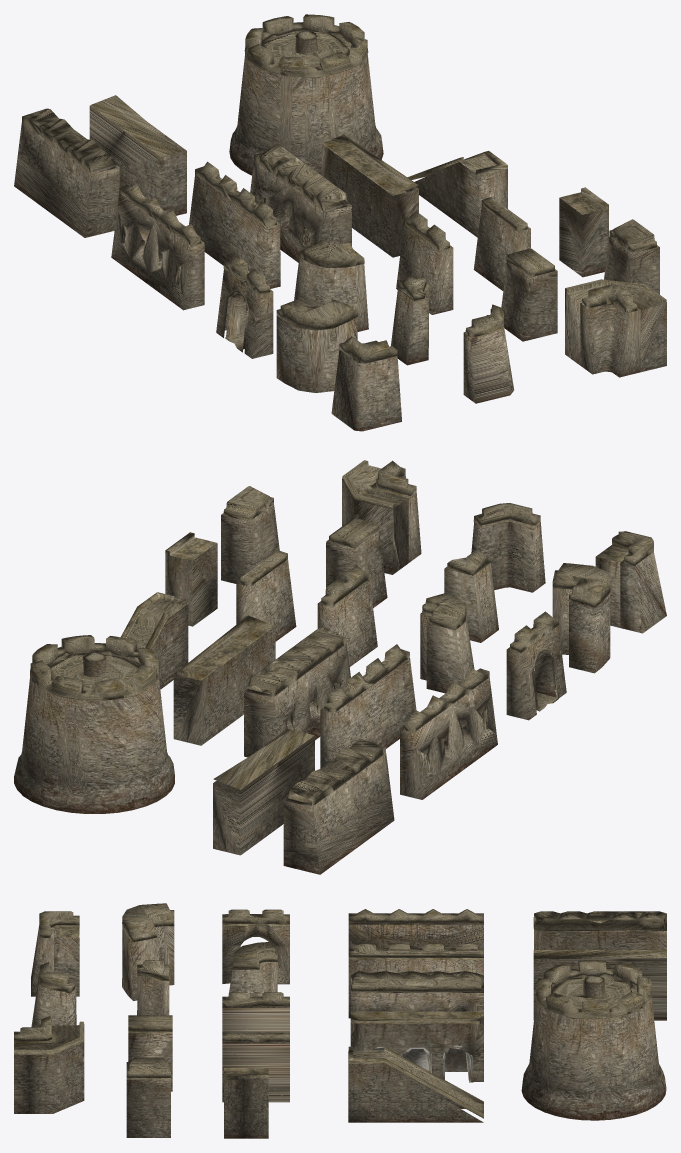
File: modular_fort_01_lod2.glb
3 renders of one model, top to bottom at view 1: azimuth 30°, elevation 25°; view 2: azimuth 150°, elevation 25°; view 3: azimuth 270°, elevation 25°, orthographic. The views are drawn at different scales.
Parts seen in each view (by area): view 1: modular_fort_01_tower_round, modular_fort_01_wall_thick_straight_01, modular_fort_01_wall_thin_straight_02, modular_fort_01_wall_thick_straight_02, modular_fort_01_wall_thin_straight_01, modular_fort_01_wall_walkway_straight_02, modular_fort_01_wall_walkway_straight_01, modular_fort_01_wall_thick_corner_02, modular_fort_01_wall_thin_corner_02, modular_fort_01_wall_thin_corner_01, modular_fort_01_wall_stairs_straight_01, modular_fort_01_wall_thin_gate_01 (+9 smaller); view 2: modular_fort_01_tower_round, modular_fort_01_wall_thick_straight_01, modular_fort_01_wall_thin_straight_02, modular_fort_01_wall_thick_straight_02, modular_fort_01_wall_walkway_straight_01, modular_fort_01_wall_walkway_straight_02, modular_fort_01_wall_thin_straight_01, modular_fort_01_wall_thick_corner_02, modular_fort_01_wall_thin_corner_03, modular_fort_01_wall_thin_gate_01, modular_fort_01_wall_thick_corner_01, modular_fort_01_wall_thick_end_02 (+10 smaller); view 3: modular_fort_01_tower_round, modular_fort_01_wall_stairs_straight_01, modular_fort_01_wall_walkway_straight_01, modular_fort_01_wall_walkway_corner_01, modular_fort_01_wall_thick_straight_02, modular_fort_01_wall_thick_straight_01, modular_fort_01_wall_thin_straight_02, modular_fort_01_wall_thin_straight_01, modular_fort_01_wall_thick_corner_02, modular_fort_01_wall_thick_end_02, modular_fort_01_wall_walkway_straight_02, modular_fort_01_wall_thin_straight_03 (+10 smaller).
Boxes of the visible parts, left/top/right/bottom form: modular_fort_01_tower_round: left=229, top=14, right=383, bottom=175; modular_fort_01_wall_thick_straight_01: left=14, top=108, right=119, bottom=237; modular_fort_01_wall_thin_straight_02: left=111, top=184, right=204, bottom=310; modular_fort_01_wall_thick_straight_02: left=250, top=143, right=351, bottom=262; modular_fort_01_wall_thin_straight_01: left=189, top=161, right=280, bottom=288; modular_fort_01_wall_walkway_straight_02: left=89, top=95, right=186, bottom=215; modular_fort_01_wall_walkway_straight_01: left=322, top=134, right=418, bottom=257; modular_fort_01_wall_thick_corner_02: left=276, top=298, right=357, bottom=392; modular_fort_01_wall_thin_corner_02: left=331, top=336, right=401, bottom=431; modular_fort_01_wall_thin_corner_01: left=580, top=284, right=640, bottom=377; modular_fort_01_wall_stairs_straight_01: left=407, top=151, right=507, bottom=237; modular_fort_01_wall_thin_gate_01: left=216, top=255, right=273, bottom=358; modular_fort_01_tower_round: left=14, top=635, right=174, bottom=813; modular_fort_01_wall_thick_straight_01: left=283, top=738, right=394, bottom=874; modular_fort_01_wall_thin_straight_02: left=400, top=668, right=497, bottom=799; modular_fort_01_wall_thick_straight_02: left=244, top=626, right=350, bottom=757; modular_fort_01_wall_walkway_straight_01: left=173, top=615, right=275, bottom=745; modular_fort_01_wall_walkway_straight_02: left=213, top=728, right=314, bottom=855; modular_fort_01_wall_thin_straight_01: left=320, top=644, right=416, bottom=768; modular_fort_01_wall_thick_corner_02: left=552, top=563, right=610, bottom=673; modular_fort_01_wall_thin_corner_03: left=471, top=503, right=545, bottom=592; modular_fort_01_wall_thin_gate_01: left=506, top=611, right=566, bottom=720; modular_fort_01_wall_thick_corner_01: left=420, top=593, right=474, bottom=693; modular_fort_01_wall_thick_end_02: left=221, top=486, right=279, bottom=583; modular_fort_01_tower_round: left=521, top=960, right=666, bottom=1120; modular_fort_01_wall_stairs_straight_01: left=348, top=1046, right=483, bottom=1122; modular_fort_01_wall_walkway_straight_01: left=350, top=1011, right=483, bottom=1082; modular_fort_01_wall_walkway_corner_01: left=14, top=1021, right=84, bottom=1113; modular_fort_01_wall_thick_straight_02: left=350, top=971, right=483, bottom=1011; modular_fort_01_wall_thick_straight_01: left=533, top=911, right=666, bottom=949; modular_fort_01_wall_thin_straight_02: left=348, top=909, right=483, bottom=948; modular_fort_01_wall_thin_straight_01: left=348, top=943, right=483, bottom=1018; modular_fort_01_wall_thick_corner_02: left=122, top=903, right=174, bottom=1000; modular_fort_01_wall_thick_end_02: left=126, top=1057, right=170, bottom=1137; modular_fort_01_wall_walkway_straight_02: left=533, top=950, right=666, bottom=1020; modular_fort_01_wall_thin_straight_03: left=222, top=1032, right=289, bottom=1102.
Bounding box in the file's own units: 42.66 × 13.58 × 71.37.
Materials: 3 (3 with a texture image).
